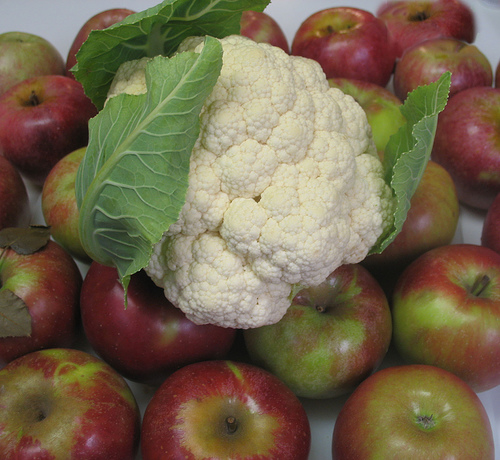cauliflower: (105, 33, 400, 328)
